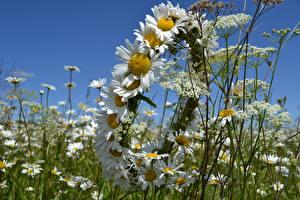chamomile: (117, 48, 158, 82), (142, 25, 172, 53), (154, 11, 190, 33), (93, 113, 120, 136), (112, 77, 143, 97), (100, 142, 124, 164), (170, 132, 194, 153), (106, 90, 126, 115), (140, 167, 166, 186), (143, 147, 169, 162), (130, 148, 147, 170), (0, 158, 12, 174)
